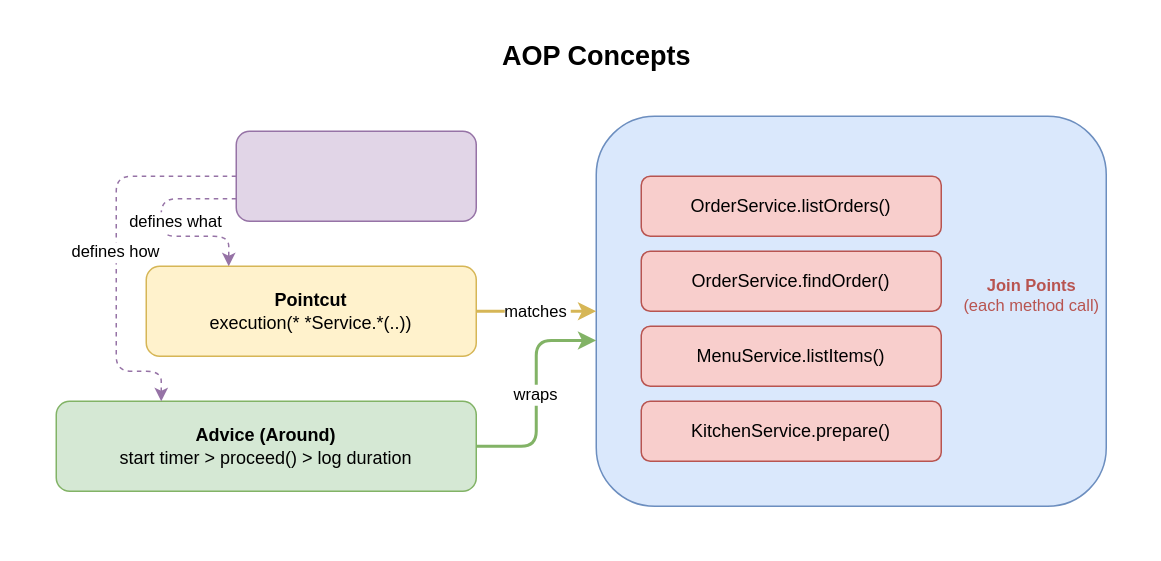
The diagram is 1161 pixels wide and 561 high, and some of its shapes have lost their labels. Here are the shapes that lost their labels. From the top down, the box of each, then its label:
(235, 130, 476, 221): Aspect TimingAspect
(595, 115, 1106, 506): Target Services
